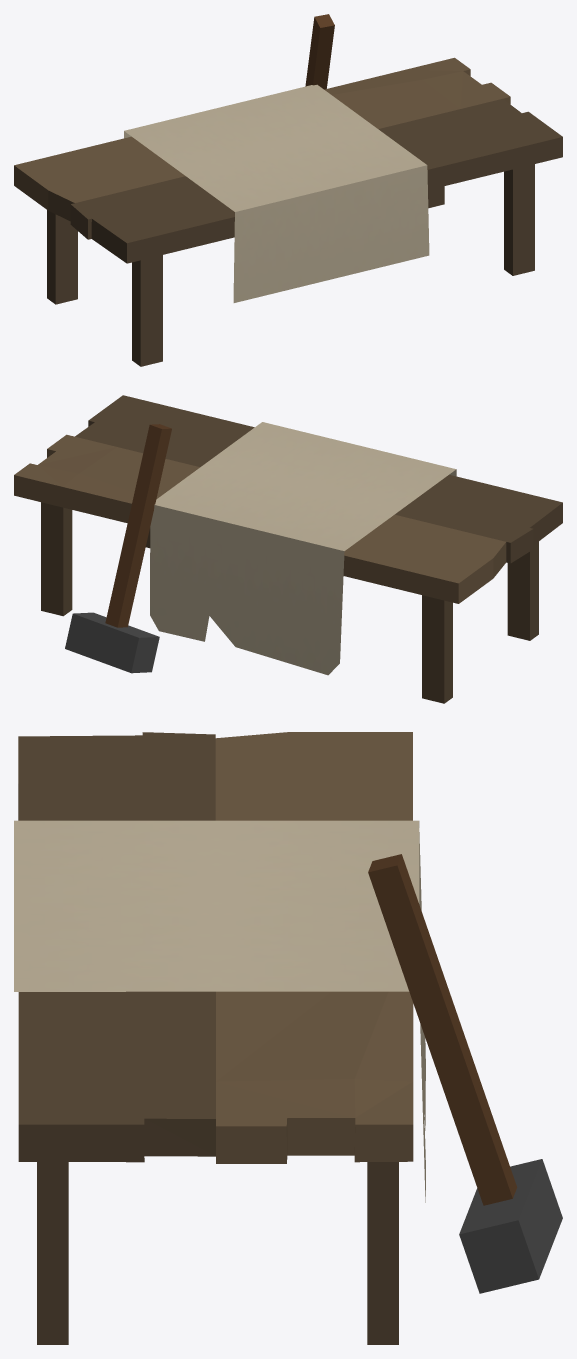
Rendered from ZLP_Build_F_27.FBX.
3 views of the same model, one above another, from view 1: azimuth 30°, elevation 25°; view 2: azimuth 150°, elevation 25°; view 3: azimuth 270°, elevation 25° (orthographic). The views are drawn at different scales.
Visible parts, largest first — view 1: ZLP_Build_F_27; view 2: ZLP_Build_F_27; view 3: ZLP_Build_F_27.
Boxes of the visible parts, left/top/right/bottom form: ZLP_Build_F_27: left=14, top=14, right=562, bottom=366; ZLP_Build_F_27: left=14, top=395, right=562, bottom=703; ZLP_Build_F_27: left=14, top=732, right=562, bottom=1344.
Size of the model in its own units: 173 by 80.86 by 102.
